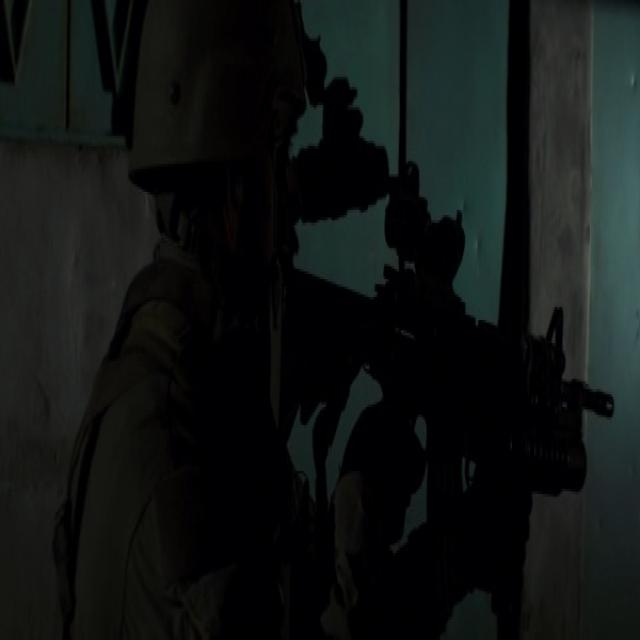rifle: (285, 156, 613, 550)
